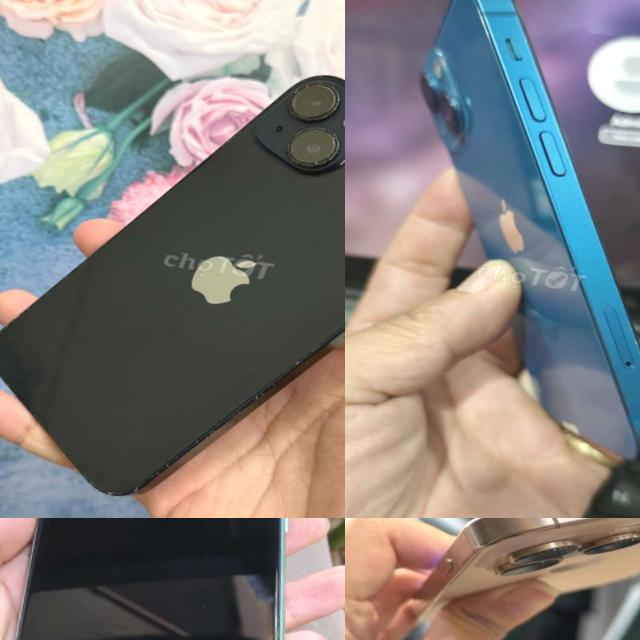gen_11: (15, 518, 287, 640)
gen_12_13: (356, 0, 640, 467)
gen_14: (0, 27, 345, 518)
gen_16: (414, 518, 640, 620)
